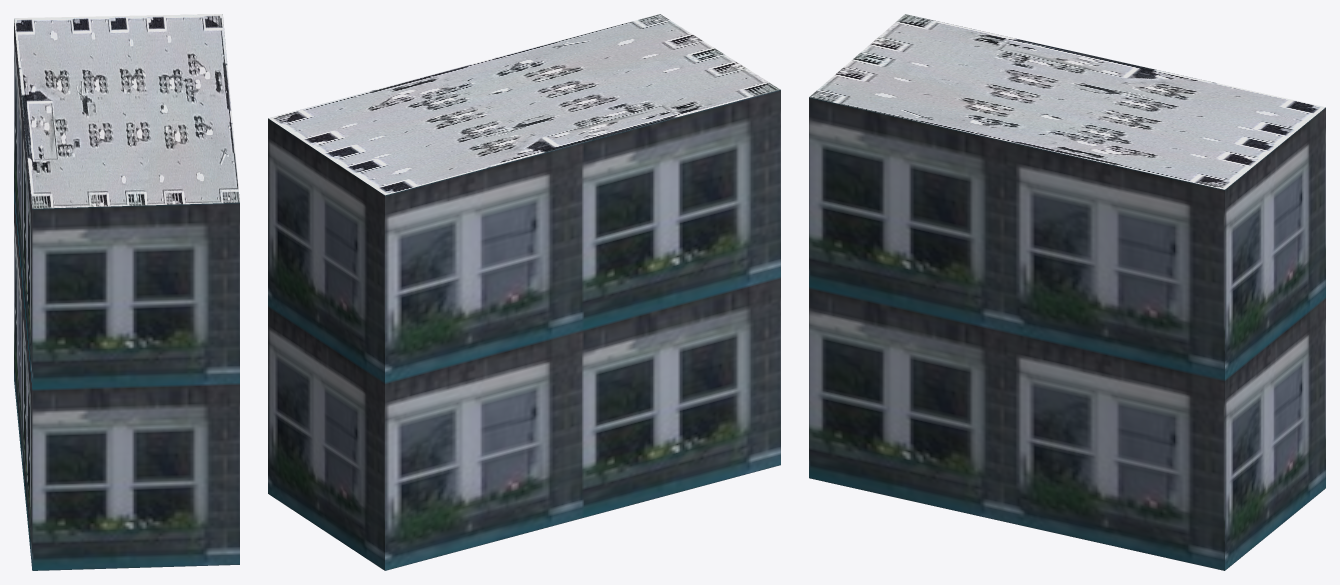
File: ResTex__4038.fbx
The picture shows the model from 3 angles, left to right: view 1: azimuth 30°, elevation 25°; view 2: azimuth 150°, elevation 25°; view 3: azimuth 270°, elevation 25°; orthographic projection. The views are drawn at different scales.
Visible parts, largest first — view 1: CityEngineMaterial_11_m, CityEngineMaterial_8_m; view 2: CityEngineMaterial_11_m, CityEngineMaterial_8_m; view 3: CityEngineMaterial_11_m, CityEngineMaterial_8_m.
Part boxes in pixels (x1,y1,x2,y2): CityEngineMaterial_11_m: (14,19,239,570); CityEngineMaterial_8_m: (14,14,239,208); CityEngineMaterial_11_m: (268,89,780,570); CityEngineMaterial_8_m: (268,14,780,195); CityEngineMaterial_11_m: (809,97,1325,570); CityEngineMaterial_8_m: (809,14,1325,189).
Size of the model in its own units: 5.94 by 6 by 7.38.
Materials: 2 (2 with a texture image).
